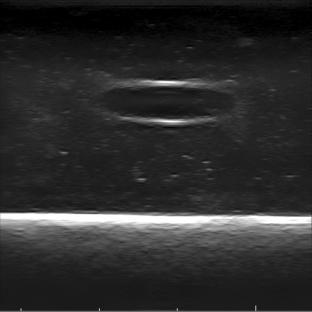vessel: (93, 80, 237, 125)
